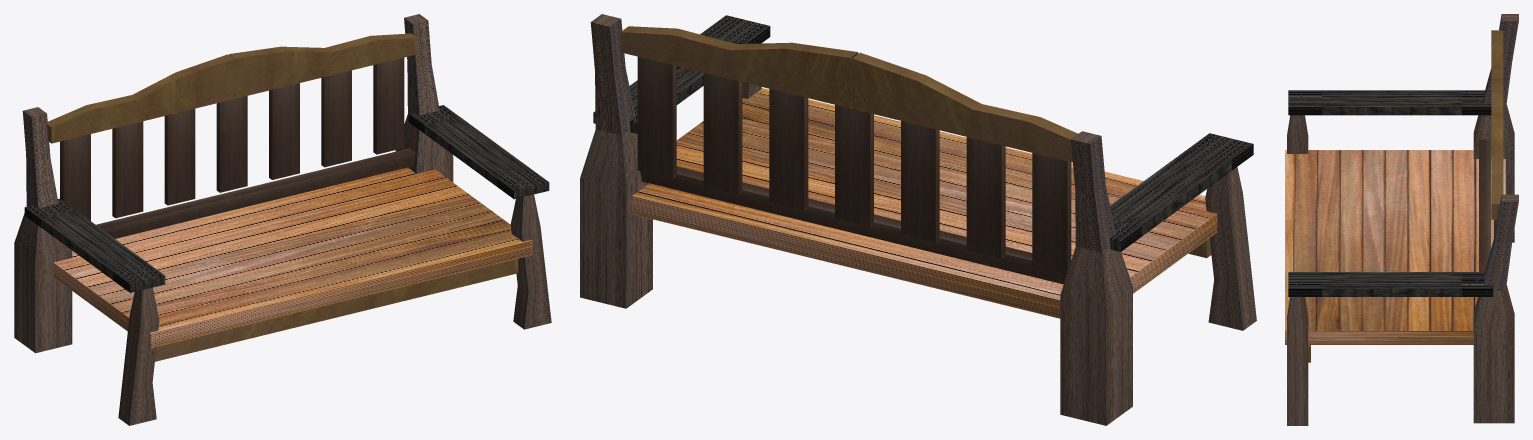
The model's file is chair.fbx.
3 views of the same model, side by side, from view 1: azimuth 30°, elevation 25°; view 2: azimuth 150°, elevation 25°; view 3: azimuth 270°, elevation 25° (orthographic). The views are drawn at different scales.
Parts seen in each view (by area): view 1: Box001, Box004, Box010, Box009, Box008, Box021, Box006, Box007, Box005, Box002, Box003, Box011 (+6 smaller); view 2: Box001, Box004, Box005, Box010, Box009, Box008, Box006, Box002, Box017, Box019, Box015, Box013 (+4 smaller); view 3: Box001, Box005, Box006, Box007, Box003, Box004, Box008, Box009, Box010, Box002.
Part boxes in pixels (x1,y1,x2,y2): Box001: (53,167,532,348); Box004: (14,107,72,353); Box010: (47,54,233,143); Box009: (229,33,417,98); Box008: (96,148,415,238); Box021: (155,258,518,361); Box006: (24,198,165,292); Box007: (408,105,549,199); Box005: (395,14,453,182); Box002: (118,287,159,425); Box003: (510,194,551,329); Box011: (216,92,247,192); Box001: (632,88,1217,318); Box004: (1060,131,1132,425); Box005: (580,14,652,308); Box010: (852,52,1077,162); Box009: (620,26,858,108); Box008: (640,166,1066,284); Box006: (1110,133,1253,251); Box002: (1205,167,1256,330); Box017: (637,56,676,178); Box019: (966,137,1005,258); Box015: (703,73,742,194); Box013: (769,89,808,210); Box001: (1285,150,1505,344); Box005: (1473,194,1518,423); Box006: (1288,90,1491,115); Box007: (1288,272,1493,296); Box003: (1287,297,1308,425); Box004: (1473,14,1518,242); Box008: (1479,139,1490,271); Box009: (1491,94,1503,219); Box010: (1491,30,1503,94); Box002: (1287,115,1308,153).
Bounding box in the file's own units: 243 × 132 × 120.
Materials: 5 (5 with a texture image).
